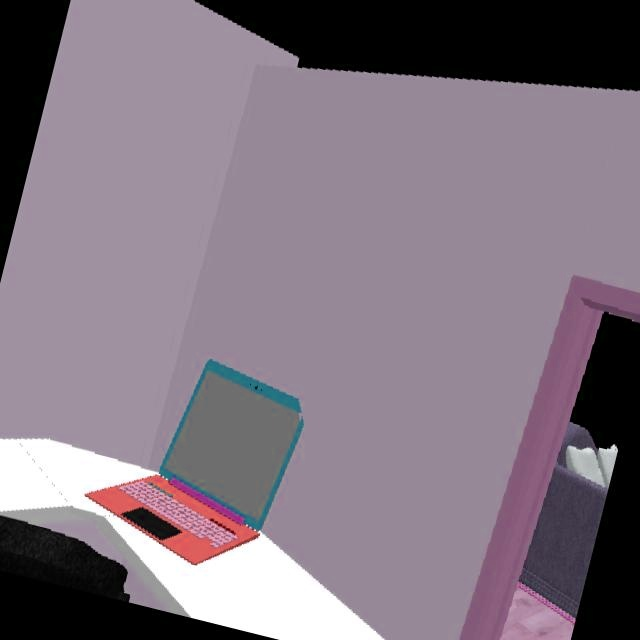chair: (0, 517, 130, 602)
laptop: (83, 360, 304, 568)
pillow: (557, 431, 618, 497)
sofa: (517, 422, 608, 624)
table: (0, 440, 385, 640)
